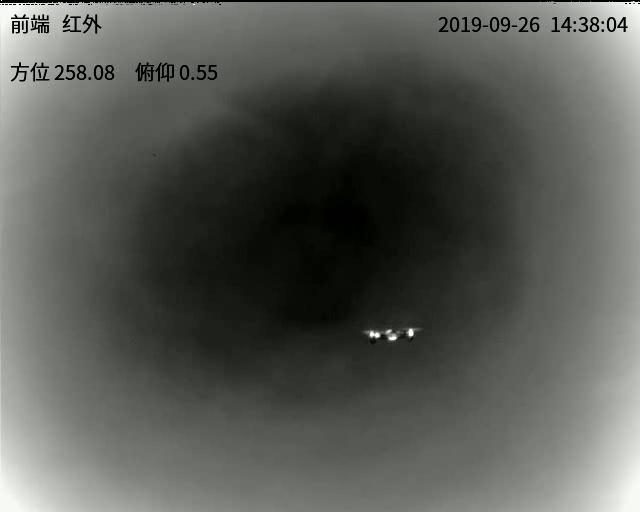DRONE: (365, 326, 417, 345)
